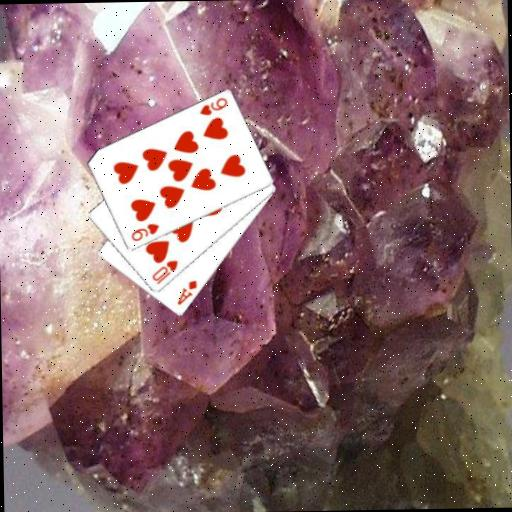10H: (149, 257, 180, 286)
9H: (197, 94, 230, 118), (128, 221, 161, 244)
AD: (173, 277, 199, 307)
